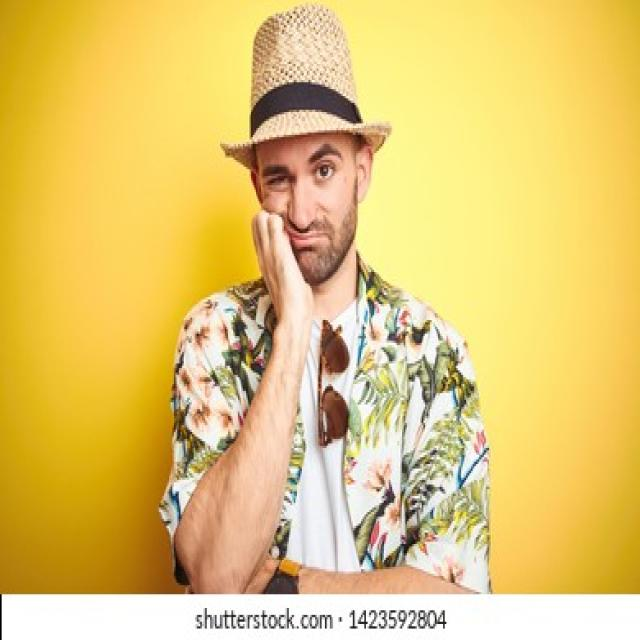hat: (223, 7, 389, 286)
